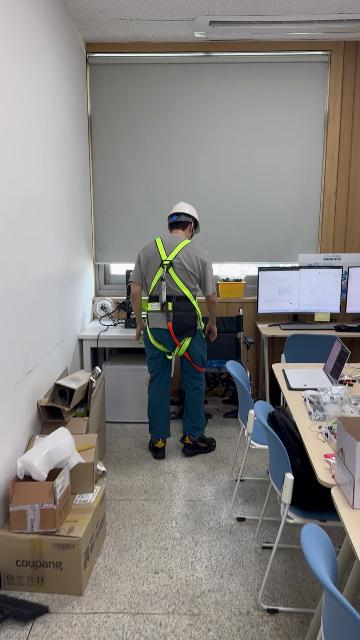helmet_worn: (166, 201, 200, 234)
shoe_worn: (179, 432, 214, 455), (148, 436, 167, 459)
vest_worn: (142, 238, 205, 358)
